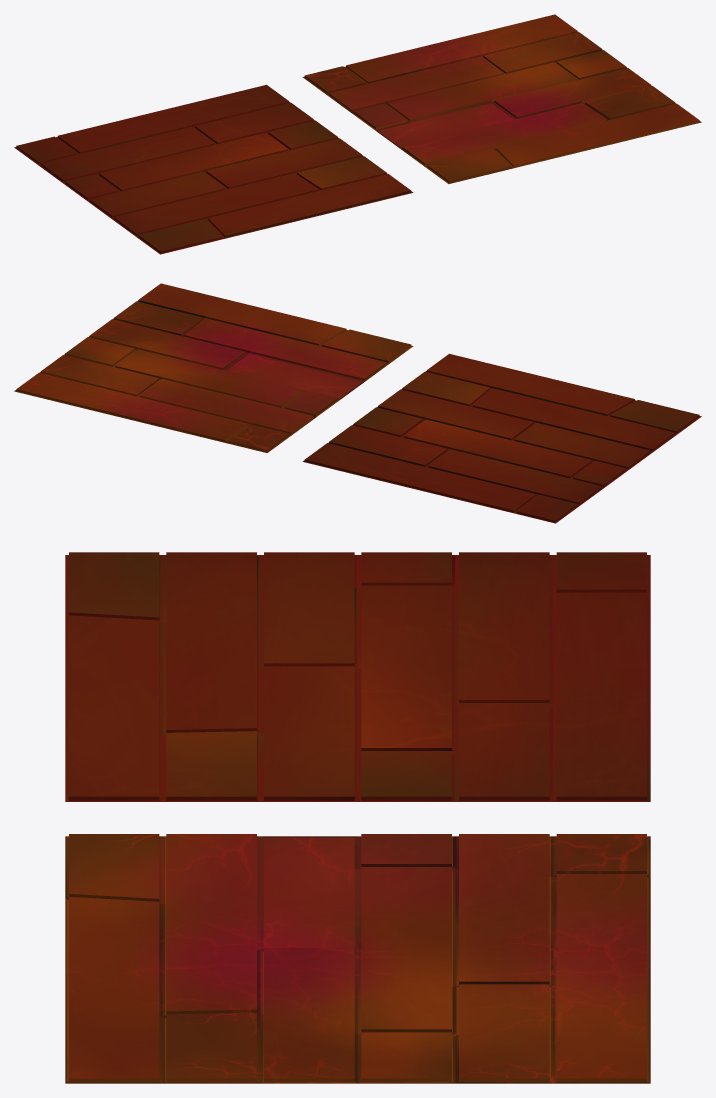
File: Floors.fbx
3 renders of one model, top to bottom at view 1: azimuth 30°, elevation 25°; view 2: azimuth 150°, elevation 25°; view 3: azimuth 270°, elevation 25°, orthographic. The views are drawn at different scales.
Visible parts, largest first — view 1: Floor, FloorV1; view 2: Floor, FloorV1; view 3: Floor, FloorV1.
Boxes of the visible parts, left/top/right/bottom form: Floor: left=14, top=84, right=413, bottom=254; FloorV1: left=302, top=14, right=701, bottom=183; Floor: left=302, top=353, right=701, bottom=523; FloorV1: left=14, top=283, right=413, bottom=452; Floor: left=65, top=552, right=650, bottom=801; FloorV1: left=65, top=834, right=650, bottom=1083.
Size of the model in its own units: 428 by 1.46 by 200.
2 materials, 2 textured.
